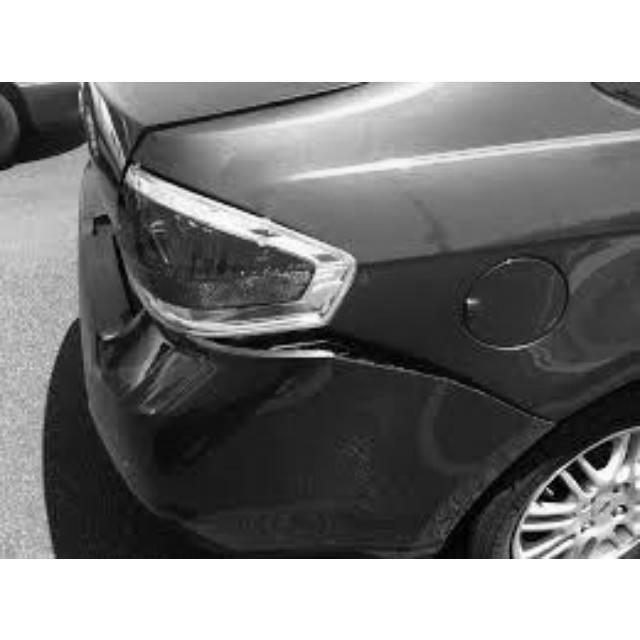rear-bumper-dent: (148, 291, 492, 502)
